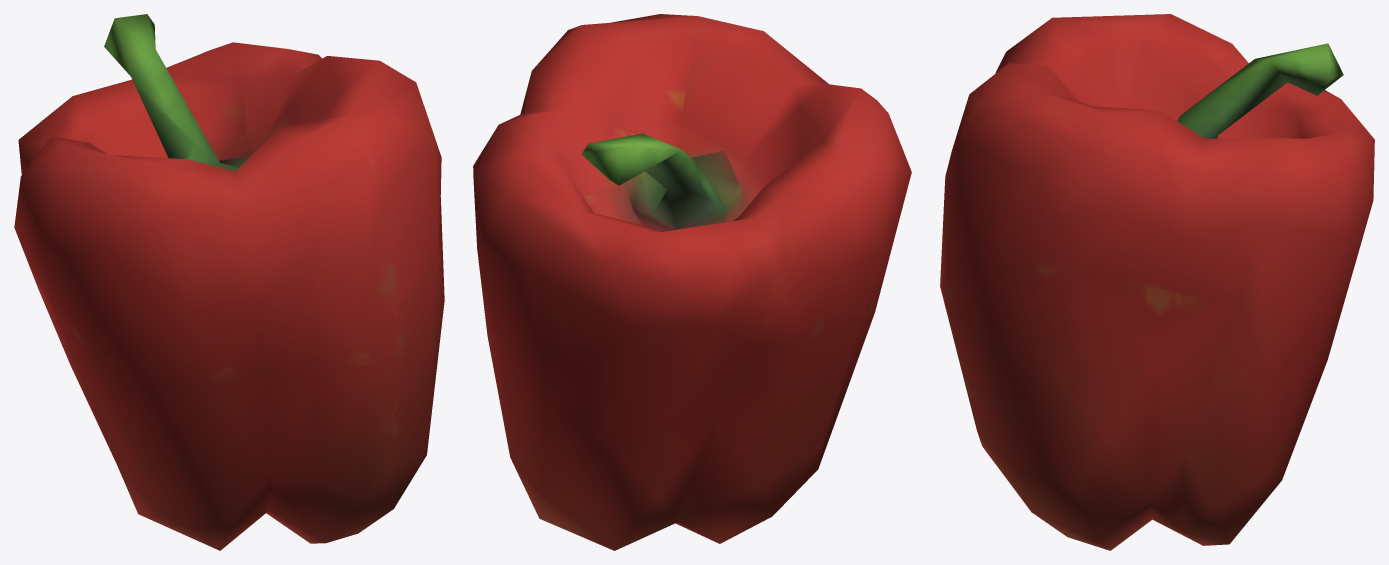
The model's file is SM_Food_SM_Pepper_01.fbx.
3 renders of one model, left to right at view 1: azimuth 30°, elevation 25°; view 2: azimuth 150°, elevation 25°; view 3: azimuth 270°, elevation 25°, orthographic.
Visible parts, largest first — view 1: SM_Food_SM_Pepper_01_LOD0; view 2: SM_Food_SM_Pepper_01_LOD0; view 3: SM_Food_SM_Pepper_01_LOD0.
Part boxes in pixels (x1,y1,x2,y2): SM_Food_SM_Pepper_01_LOD0: [14, 14, 444, 550]; SM_Food_SM_Pepper_01_LOD0: [473, 14, 911, 550]; SM_Food_SM_Pepper_01_LOD0: [940, 14, 1374, 550].
Size of the model in its own units: 9.42 by 9.9 by 11.22.
Materials: 1 (1 with a texture image).
